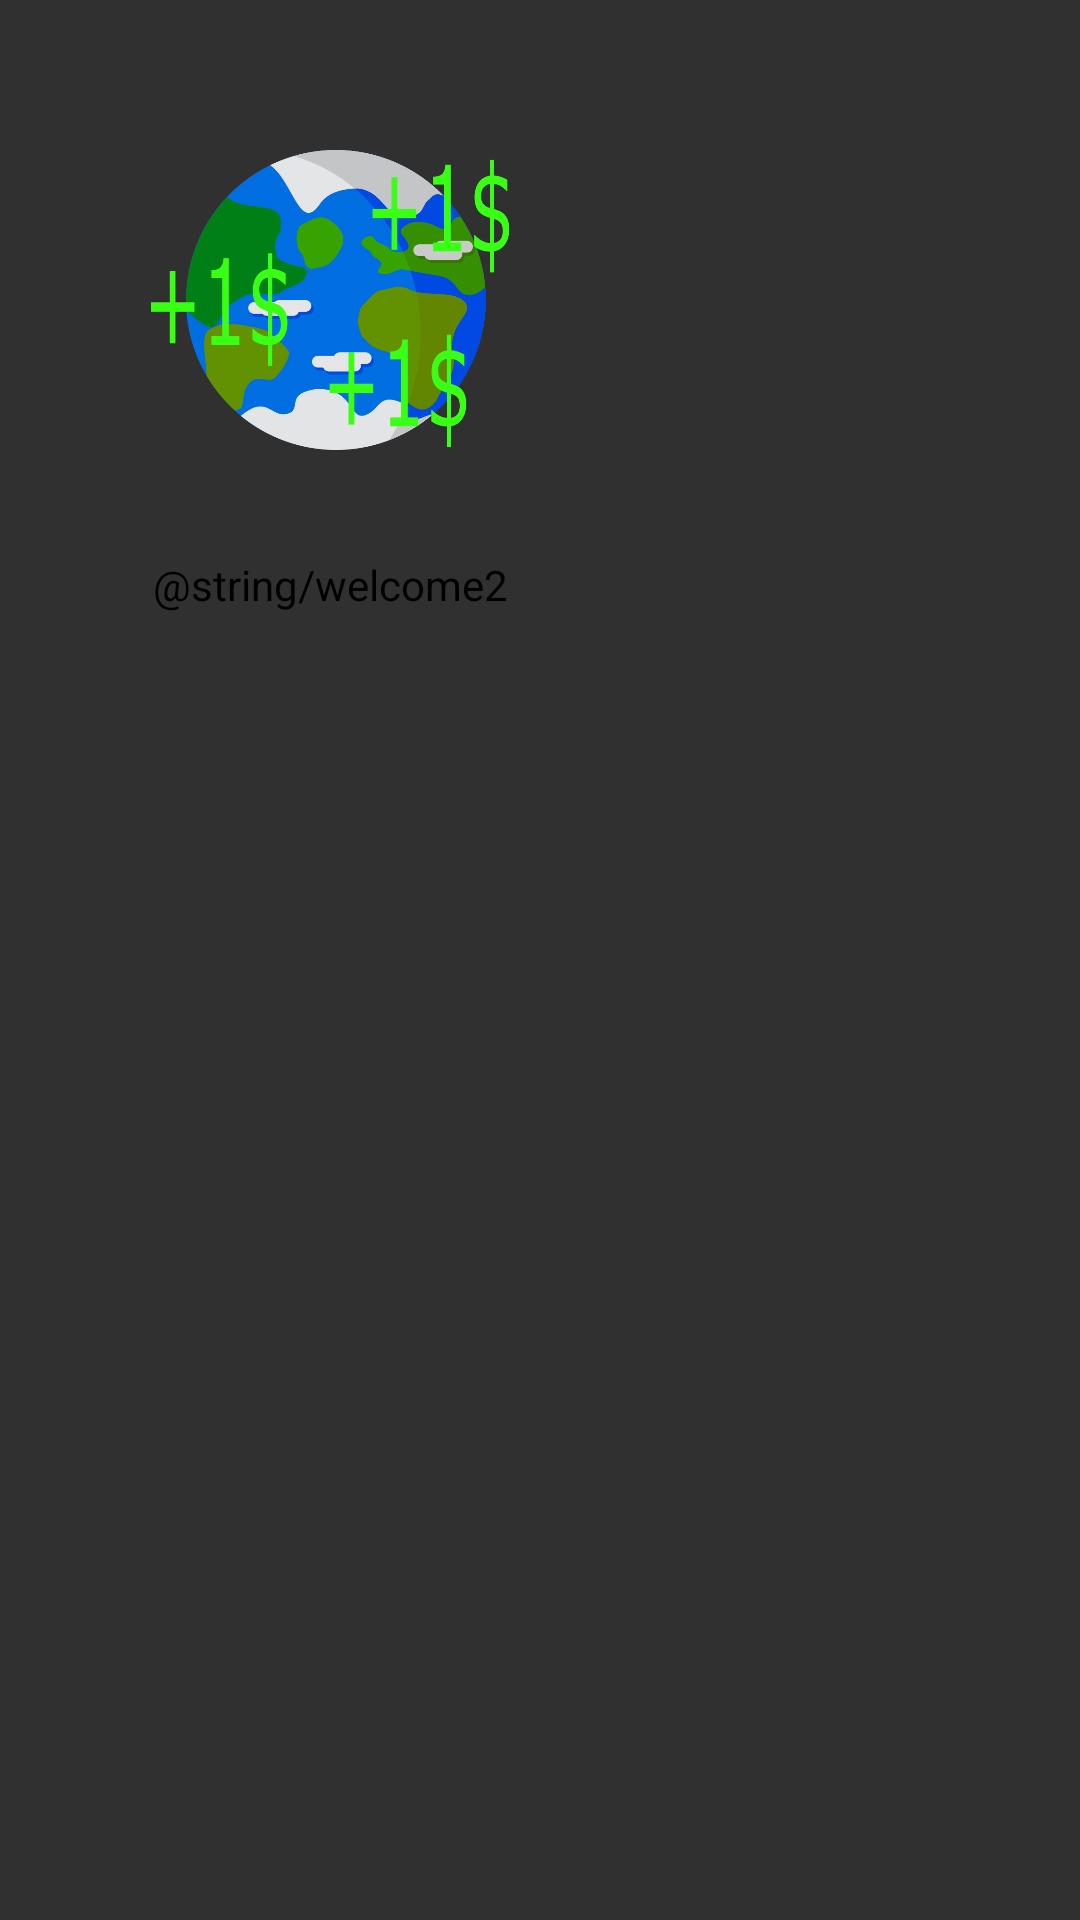

Where icons sit on this 1080px x 1920px app screen, as {"left": x1, "top": y1, "right": x2, "bottom": y2}:
planettap: {"left": 151, "top": 150, "right": 509, "bottom": 450}
